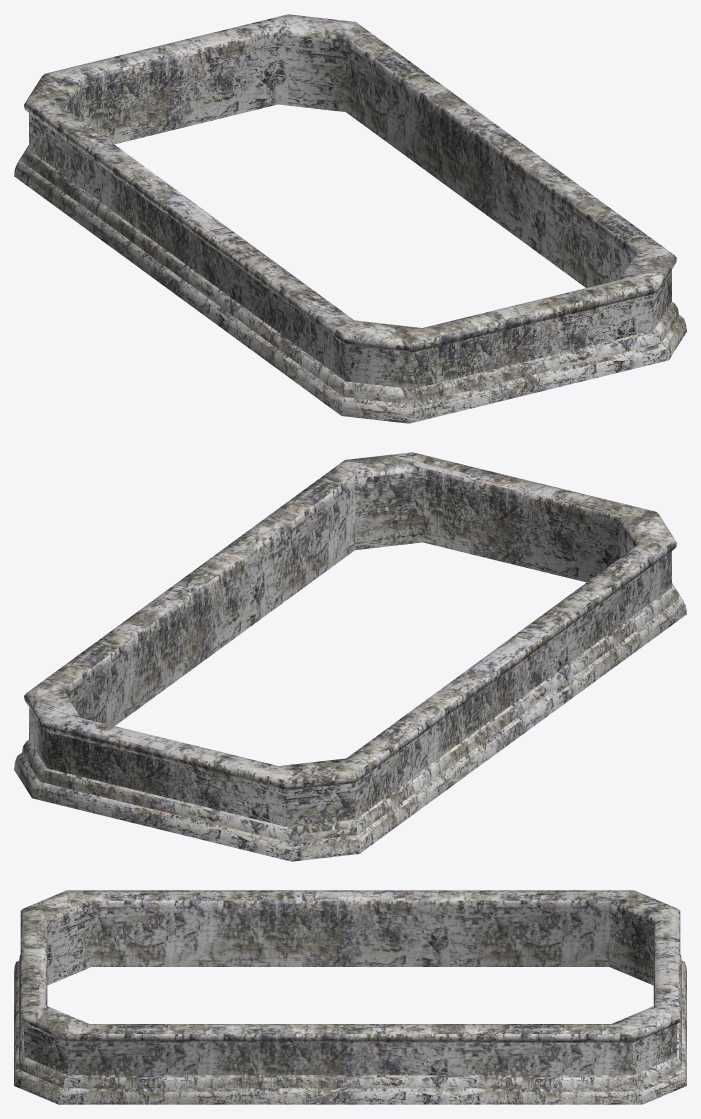
Rendered from Big_Pool.FBX.
3 views of the same model, one above another, from view 1: azimuth 30°, elevation 25°; view 2: azimuth 150°, elevation 25°; view 3: azimuth 270°, elevation 25° (orthographic). The views are drawn at different scales.
Visible parts, largest first — view 1: Big Pool; view 2: Big Pool; view 3: Big Pool.
Part boxes in pixels (bbox=[...]): Big Pool: bbox=[14, 14, 686, 423]; Big Pool: bbox=[14, 452, 686, 861]; Big Pool: bbox=[14, 890, 686, 1104].
Bounding box in the file's own units: 402 × 85.42 × 760.
